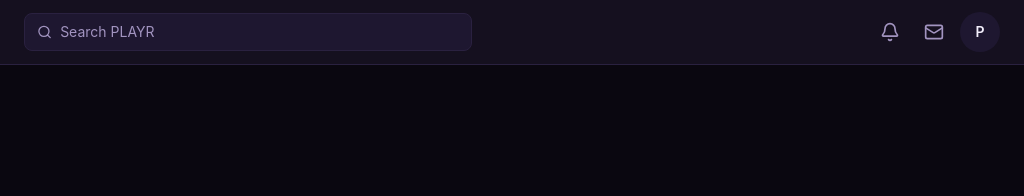
it: TopBar › opens the profile menu with view profile, settings and sign out
The image size is (1024, 196).
Click the button named "My profile" at (980, 32), box 960,12 -> 1000,52
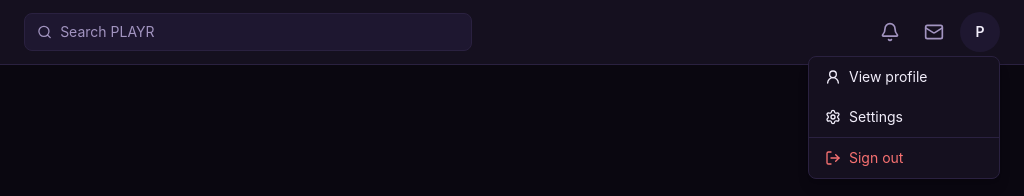
Now the button "View profile" is shown, box 809,57 -> 999,97
Now the button "Settings" is shown, box 809,97 -> 999,137
Now the button "Sign out" is shown, box 809,137 -> 999,178
